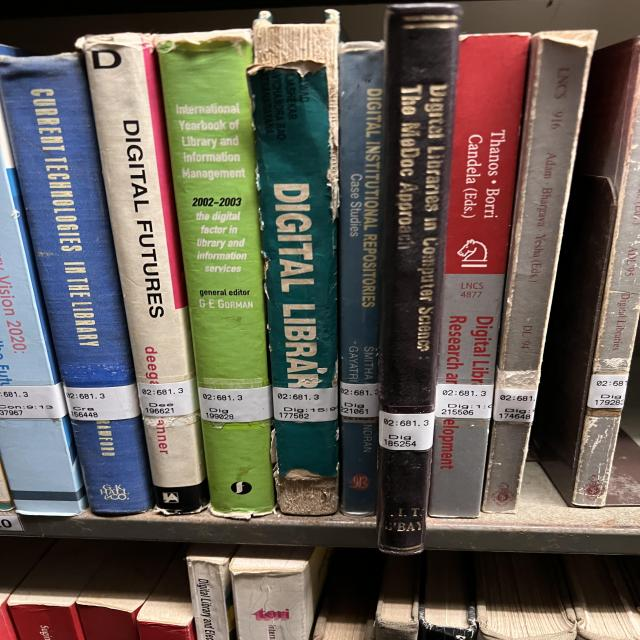Book: (0, 52, 153, 515), (78, 32, 208, 515), (157, 30, 275, 519), (482, 30, 597, 514), (533, 39, 640, 508), (430, 34, 530, 518), (377, 4, 460, 555), (250, 64, 338, 514), (0, 115, 87, 515), (338, 41, 383, 516)
Label: (63, 384, 140, 421), (198, 385, 272, 422), (0, 382, 67, 419), (272, 386, 338, 422), (137, 378, 198, 416), (378, 411, 435, 451), (435, 384, 493, 419), (493, 389, 537, 422), (587, 374, 628, 409), (340, 382, 378, 418)
